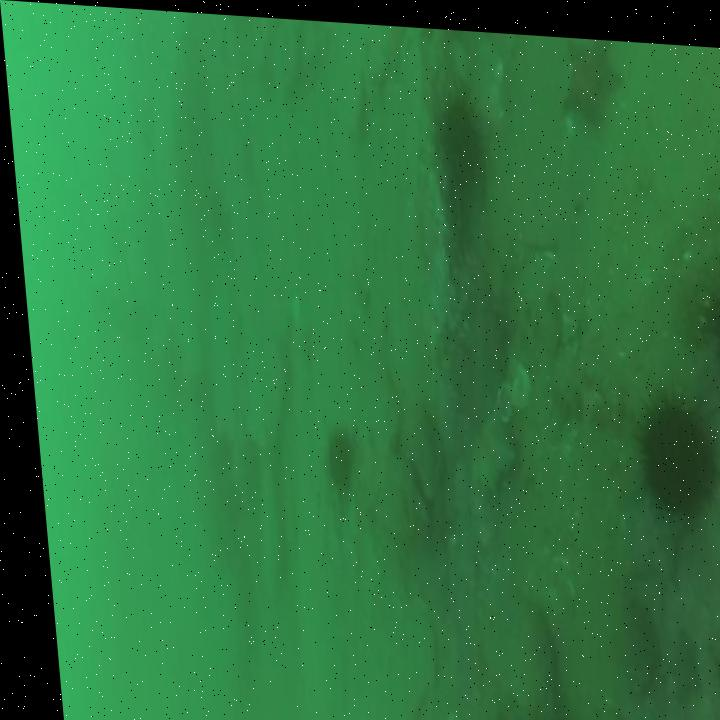echinus: (609, 358, 720, 523), (428, 79, 489, 185), (683, 236, 720, 377), (304, 409, 357, 497)
starfish: (556, 31, 631, 127)
